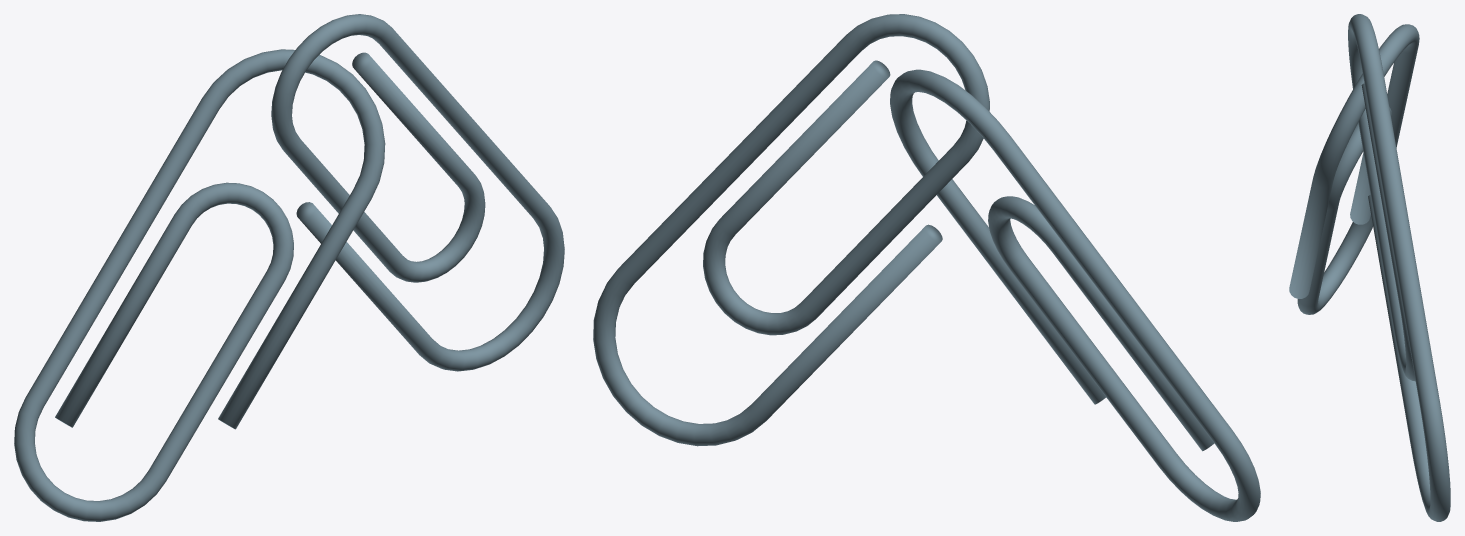
Rendered from linked_paperclips.glb.
The picture shows the model from 3 angles, left to right: view 1: azimuth 30°, elevation 25°; view 2: azimuth 150°, elevation 25°; view 3: azimuth 270°, elevation 25°; orthographic projection. The views are drawn at different scales.
Parts seen in each view (by area): view 1: Circle.2574, Circle.2573; view 2: Circle.2573, Circle.2574; view 3: Circle.2573, Circle.2574.
Part boxes in pixels (x1,y1,x2,y2): Circle.2574: (14, 49, 385, 521); Circle.2573: (271, 14, 564, 371); Circle.2573: (593, 14, 989, 446); Circle.2574: (890, 69, 1260, 521); Circle.2573: (1348, 14, 1450, 521); Circle.2574: (1289, 24, 1419, 314).
Size of the model in its own units: 2.32 by 1.6 by 0.5678.
1 material, 1 textured.
